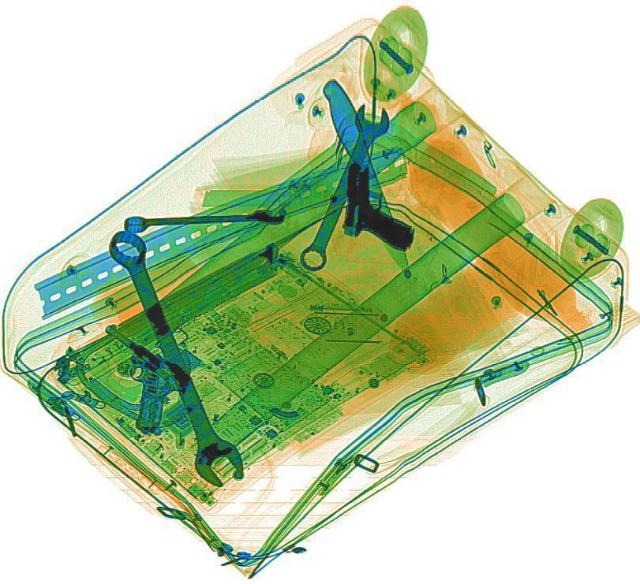Gun: (56, 318, 200, 432), (339, 159, 417, 247)
Knife: (315, 75, 419, 280)
Wrench: (90, 224, 252, 491), (288, 101, 396, 272), (124, 205, 284, 232)
